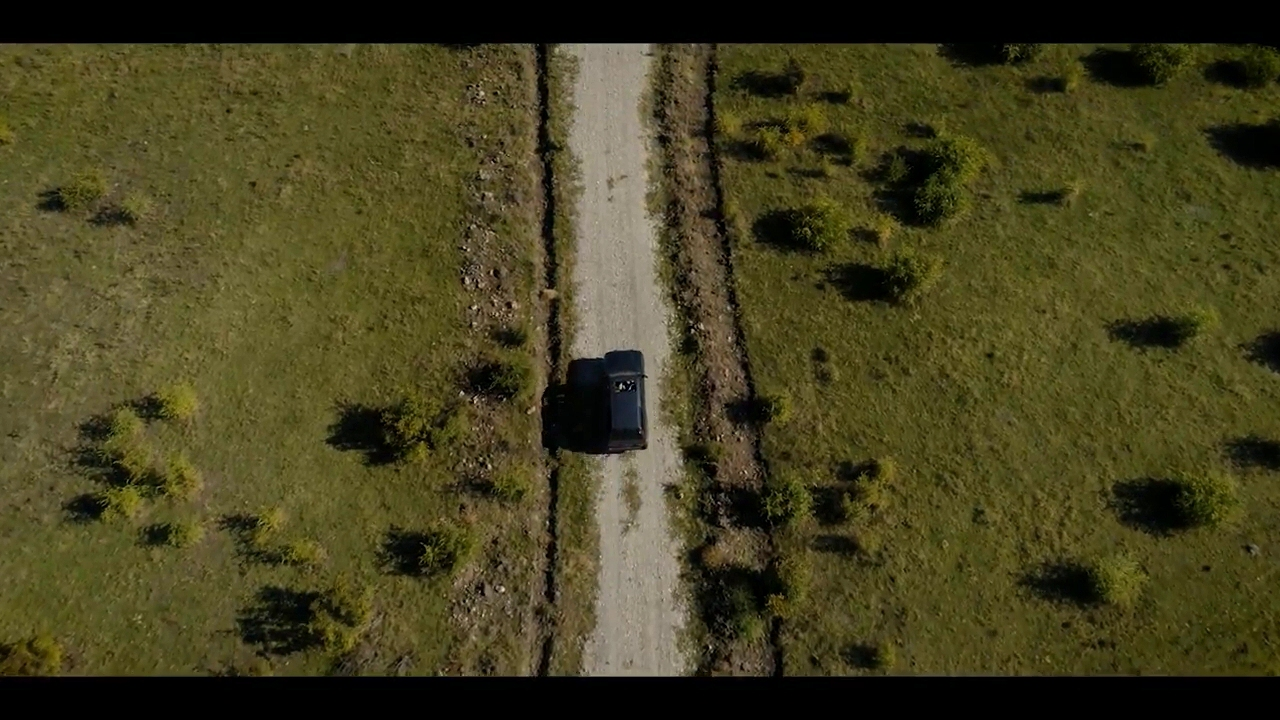araba: (601, 348, 647, 455)
